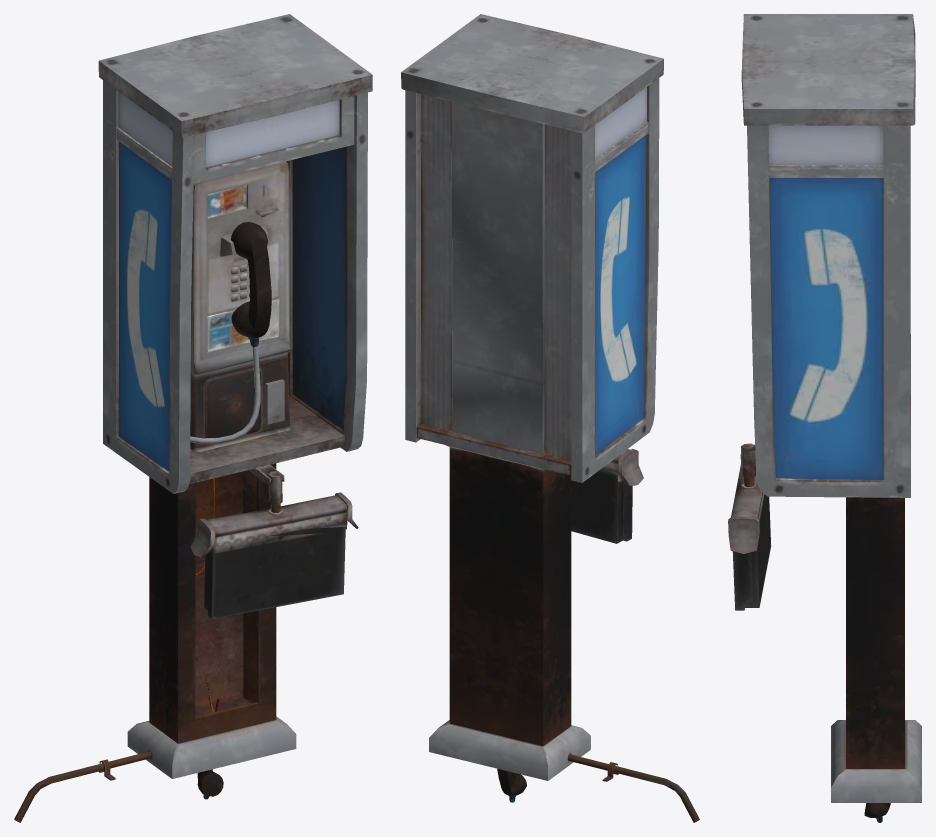
Rendered from phonebooth.static.glb.
3 views of the same model, side by side, from view 1: azimuth 30°, elevation 25°; view 2: azimuth 150°, elevation 25°; view 3: azimuth 270°, elevation 25° (orthographic). The views are drawn at different scales.
Parts seen in each view (by area): view 1: phonebooth, phonebooth_receiver_wire; view 2: phonebooth, phonebooth_receiver; view 3: phonebooth, phonebooth_receiver.
Part boxes in pixels (x1,y1,x2,y2): phonebooth: [14, 14, 372, 822]; phonebooth_receiver_wire: [190, 222, 271, 444]; phonebooth: [401, 14, 699, 822]; phonebooth_receiver: [497, 768, 526, 802]; phonebooth: [728, 14, 921, 802]; phonebooth_receiver: [864, 803, 890, 822].
Bounding box in the file's own units: 0.7517 × 1.83 × 0.4222.
1 material, 1 textured.
